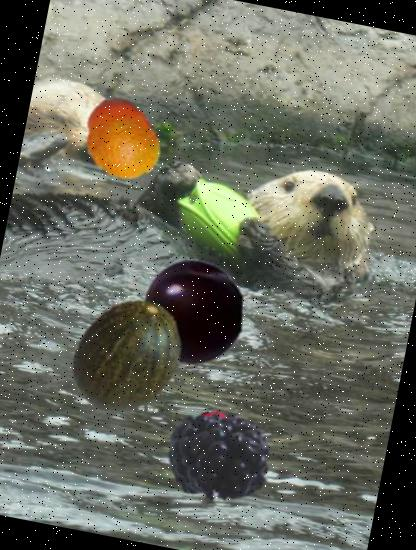Cherry: (131, 250, 256, 375)
Lychee: (178, 406, 245, 473)
Mandarine: (71, 90, 171, 190)
Melon: (57, 286, 193, 422)
Mulberry: (150, 366, 300, 516)
